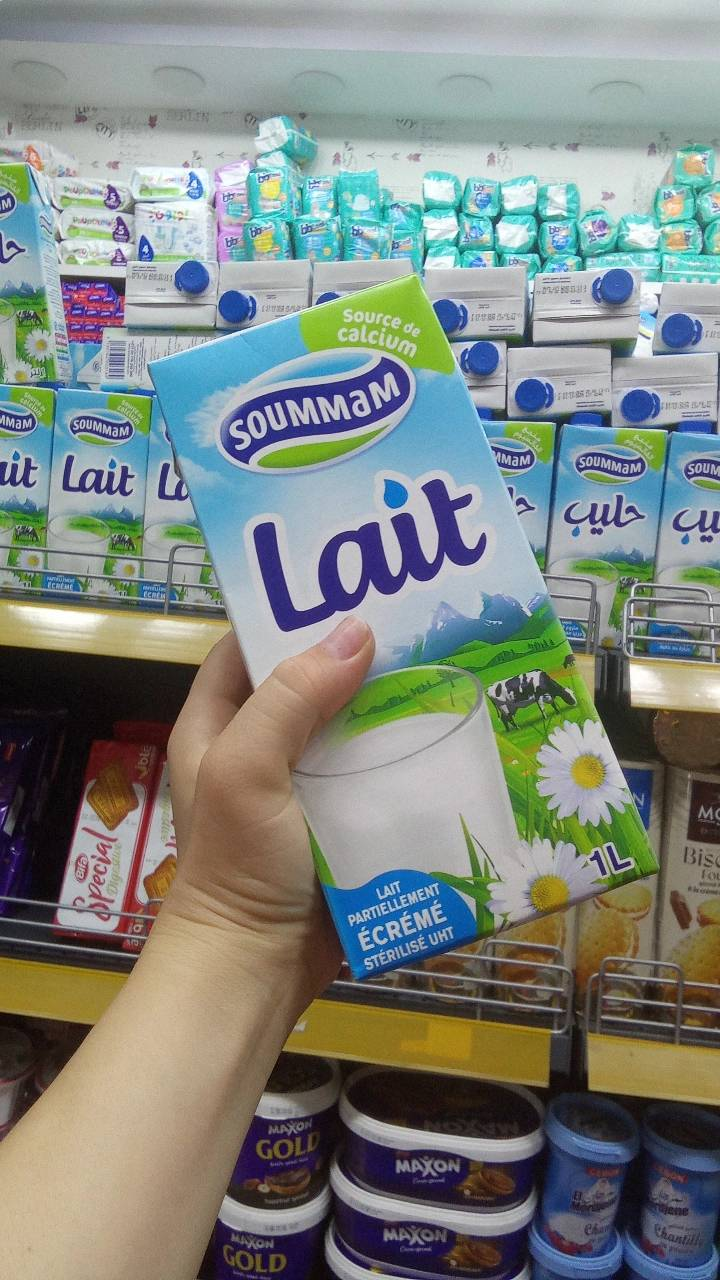soummam_milk: (138, 266, 668, 997), (553, 405, 653, 654), (44, 375, 148, 599)
